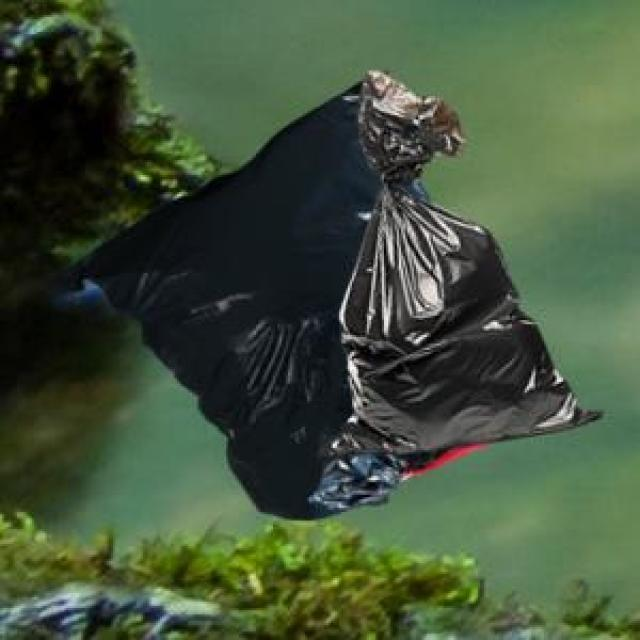waste: (76, 71, 600, 518)
